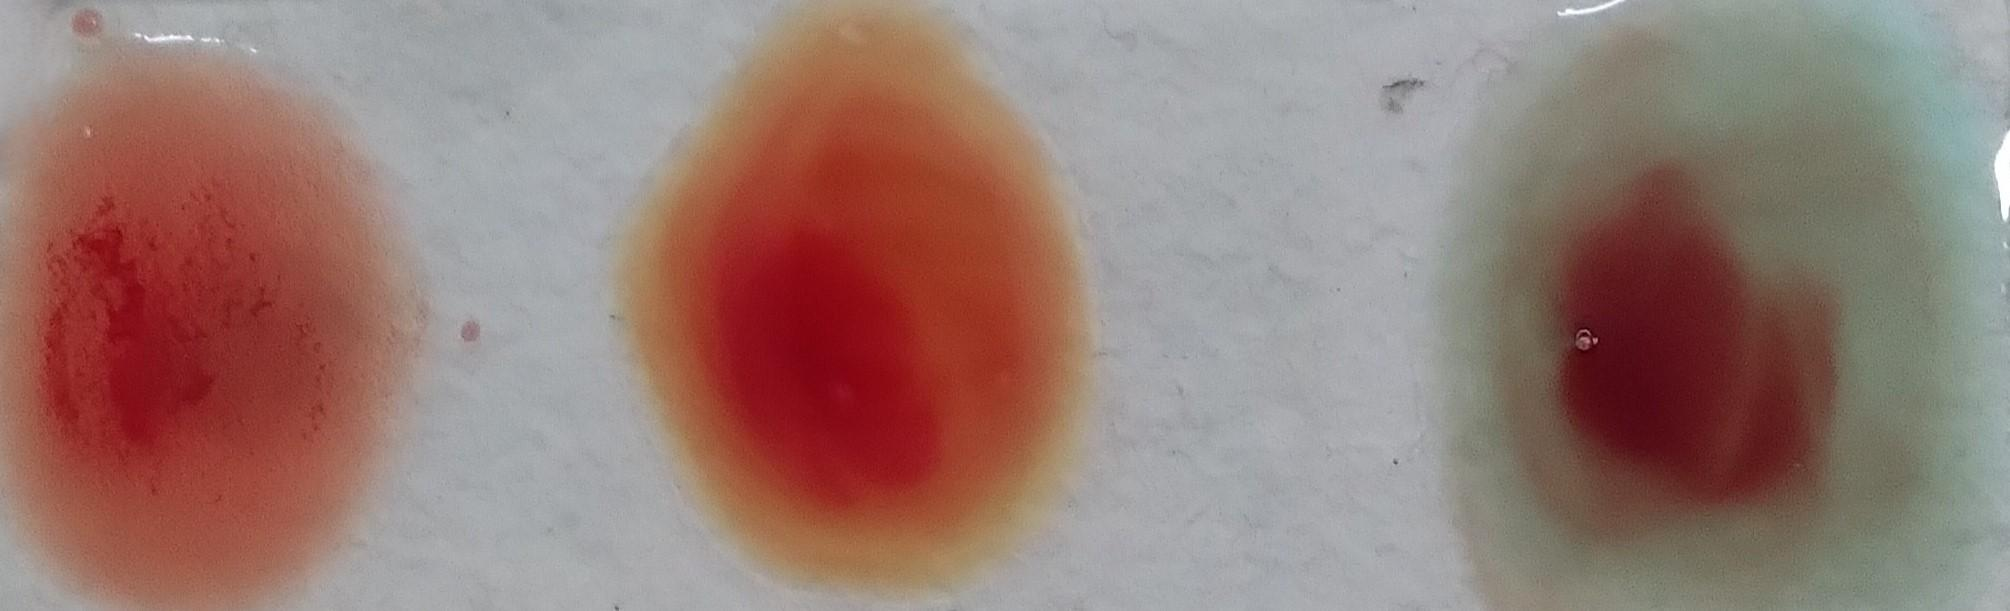D: (27, 59, 358, 611)
